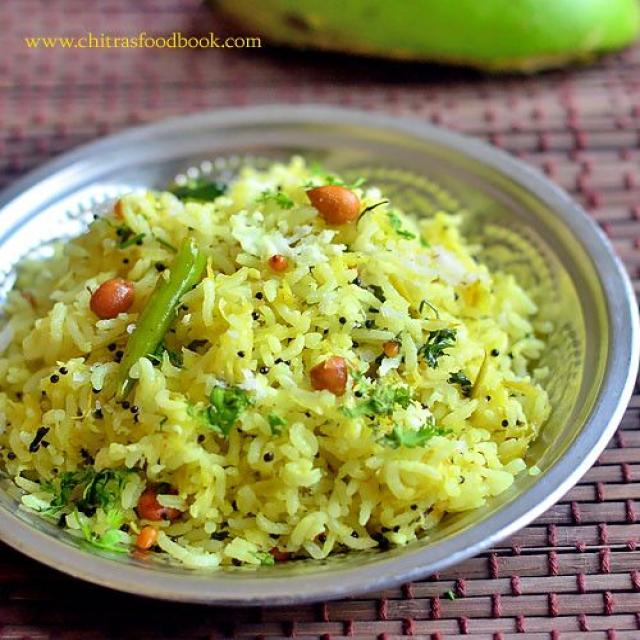lemon rice: (0, 121, 567, 595)
